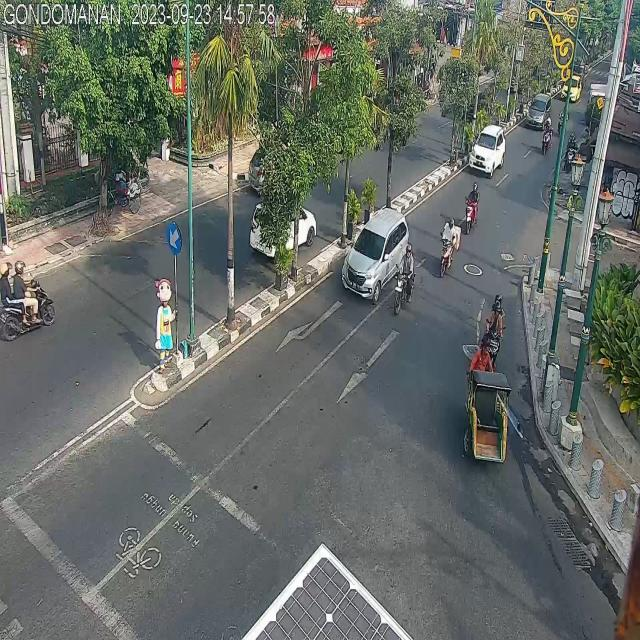car: (339, 206, 408, 306), (248, 202, 316, 262), (467, 122, 506, 178), (525, 94, 551, 130), (562, 73, 582, 105)
motorcycle: (0, 260, 57, 342), (394, 243, 416, 317), (486, 292, 502, 366), (439, 220, 459, 277), (465, 182, 480, 234), (541, 115, 553, 156), (558, 100, 568, 138)
